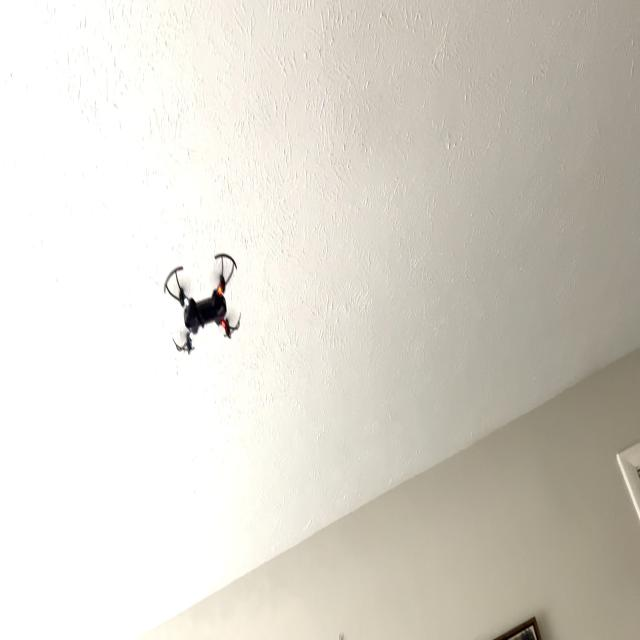drone: (152, 232, 254, 372)
